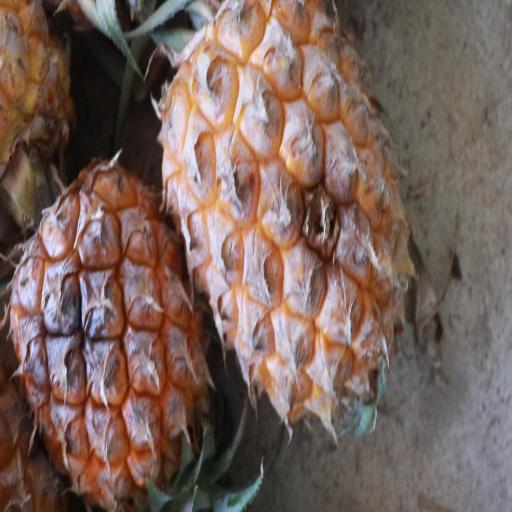Pineapple - v8 v1: (151, 0, 409, 440), (2, 147, 210, 512)
